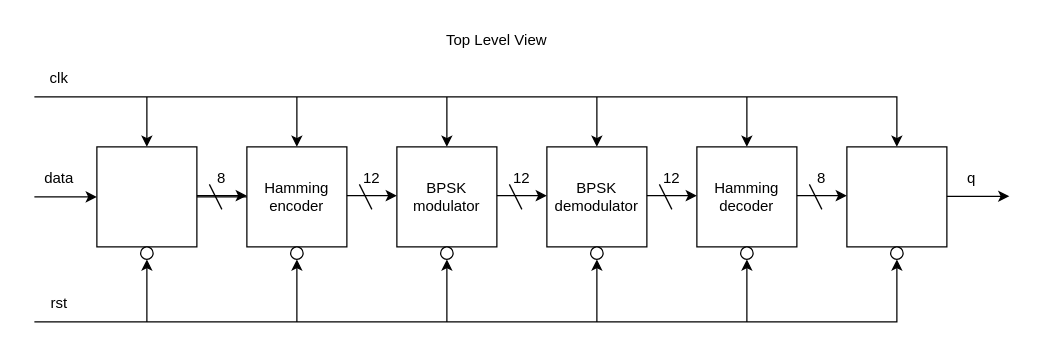
The diagram is 1041 pixels wide and 354 high, and some of its shapes have lost their labels. The box of each missing label's shape, as (x1, y1, x2, y2) in pixels:
UART RX: (96, 146, 197, 247)
UART TX: (846, 146, 947, 247)
